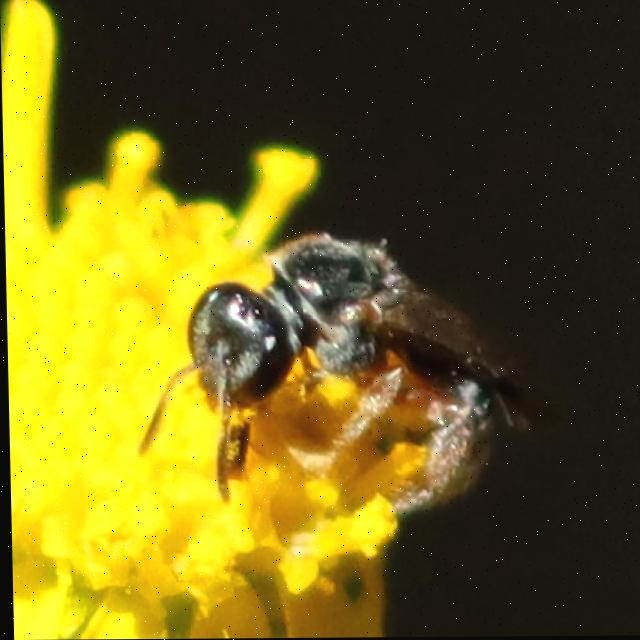Lasioglossum: (128, 212, 548, 574)
